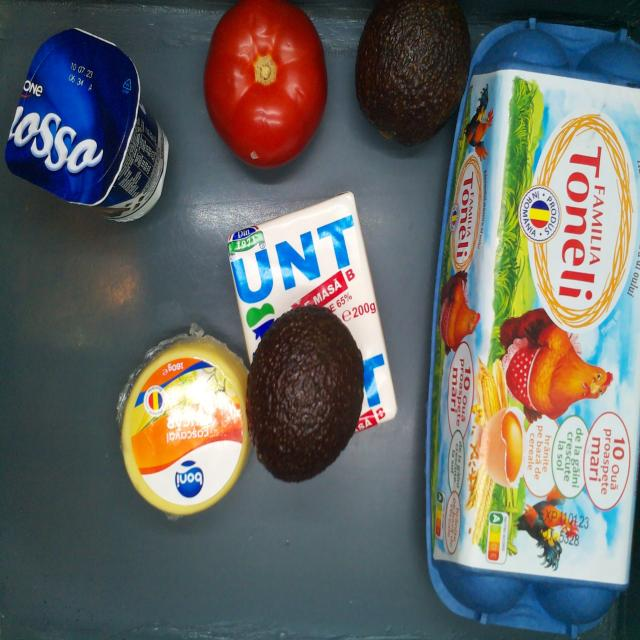avocado: (246, 305, 364, 484), (352, 3, 470, 145)
butter: (228, 190, 397, 445)
cheese: (122, 334, 249, 520)
eggs: (429, 24, 640, 637)
tomatoes: (203, 2, 327, 176)
yogurt: (6, 30, 170, 226)
